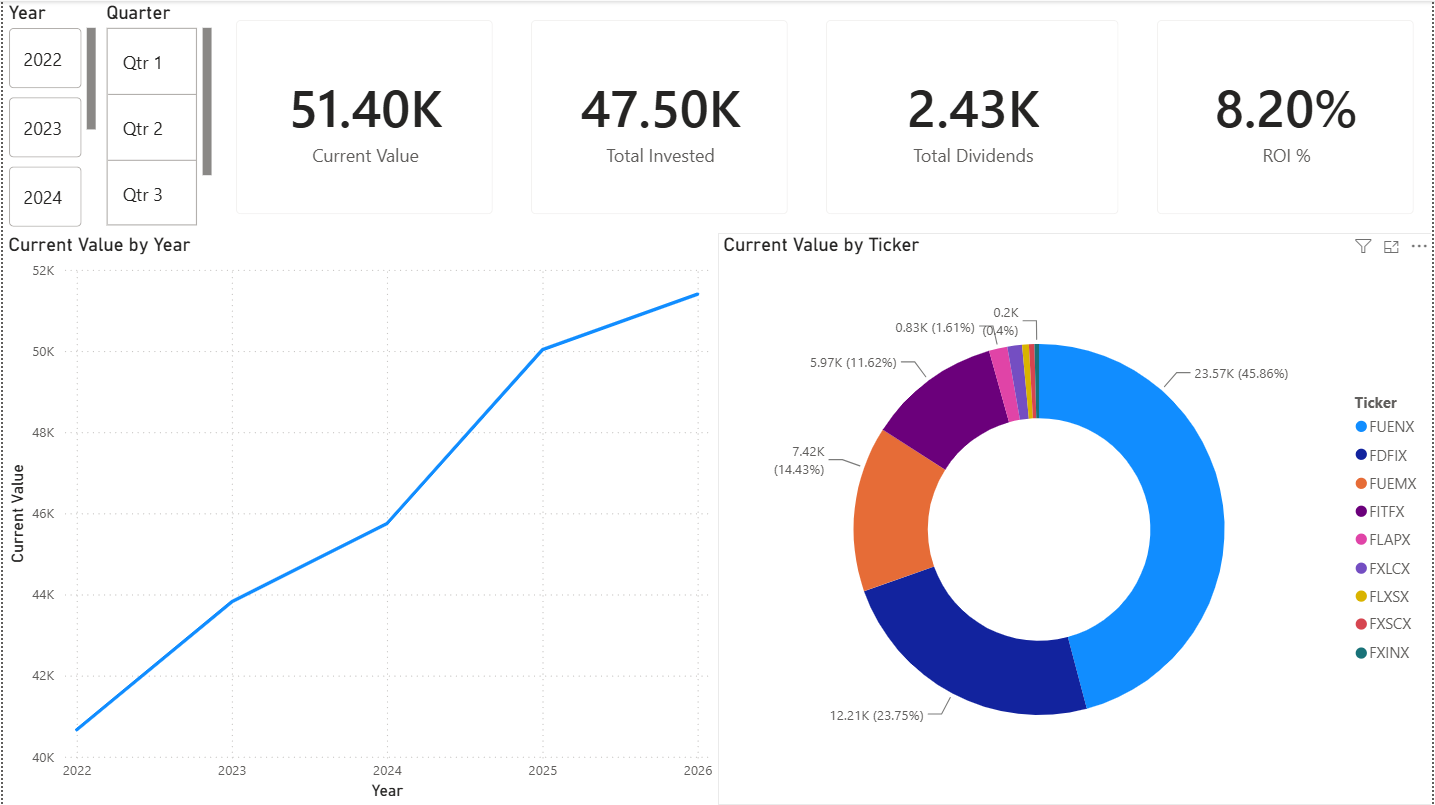

What the dashboard file says about the page in this screenshot:
{"tool":"powerbi","page":{"name":"Portfolio Overview","canvas":[1280,720],"ordinal":0},"visuals":[{"type":"cardVisual","fields":{"Data":["Transactions.Total Invested"]},"box":[456,0,264,208],"z":0},{"type":"cardVisual","fields":{"Data":["Transactions.Current Value"]},"box":[192,0,264,208],"z":1000},{"type":"cardVisual","fields":{"Data":["Transactions.ROI %"]},"box":[1016,0,264,208],"z":2000},{"type":"cardVisual","fields":{"Data":["Transactions.Total Dividends"]},"box":[720,0,296,208],"z":3000},{"type":"lineChart","fields":{"Y":["Transactions.Current Value"],"Category":["Calendar.Date Range.Variation.Date Hierarchy.Year","Calendar.Date Range.Variation.Date Hierarchy.Quarter","Calendar.Date Range.Variation.Date Hierarchy.Month","Calendar.Date Range.Variation.Date Hierarchy.Day"]},"box":[0,208,640,512],"z":4000},{"type":"donutChart","fields":{"Category":["Positions.Ticker"],"Y":["Transactions.Current Value"]},"box":[640,208,640,512],"z":5000},{"type":"advancedSlicerVisual","fields":{"Values":["Calendar.Date Range.Variation.Date Hierarchy.Quarter"]},"box":[88,0,104,208],"z":6000},{"type":"advancedSlicerVisual","fields":{"Values":["Calendar.Date Range.Variation.Date Hierarchy.Year"]},"box":[0,0,88,208],"z":7000}]}

Visuals, with their boxes in screenshot pixels (x1, y1, x2, y2), scaled from the page's 1280x720 canvas onto the 1435x805 screenshot:
cardVisual - Transactions.Total Invested: 511, 0, 807, 233
cardVisual - Transactions.Current Value: 215, 0, 511, 233
cardVisual - Transactions.ROI %: 1139, 0, 1434, 233
cardVisual - Transactions.Total Dividends: 807, 0, 1139, 233
lineChart - Transactions.Current Value x Calendar.Date Range.Variation.Date Hierarchy.Year: 0, 233, 718, 804
donutChart - Positions.Ticker x Transactions.Current Value: 718, 233, 1434, 804
advancedSlicerVisual - Calendar.Date Range.Variation.Date Hierarchy.Quarter: 99, 0, 215, 233
advancedSlicerVisual - Calendar.Date Range.Variation.Date Hierarchy.Year: 0, 0, 99, 233
